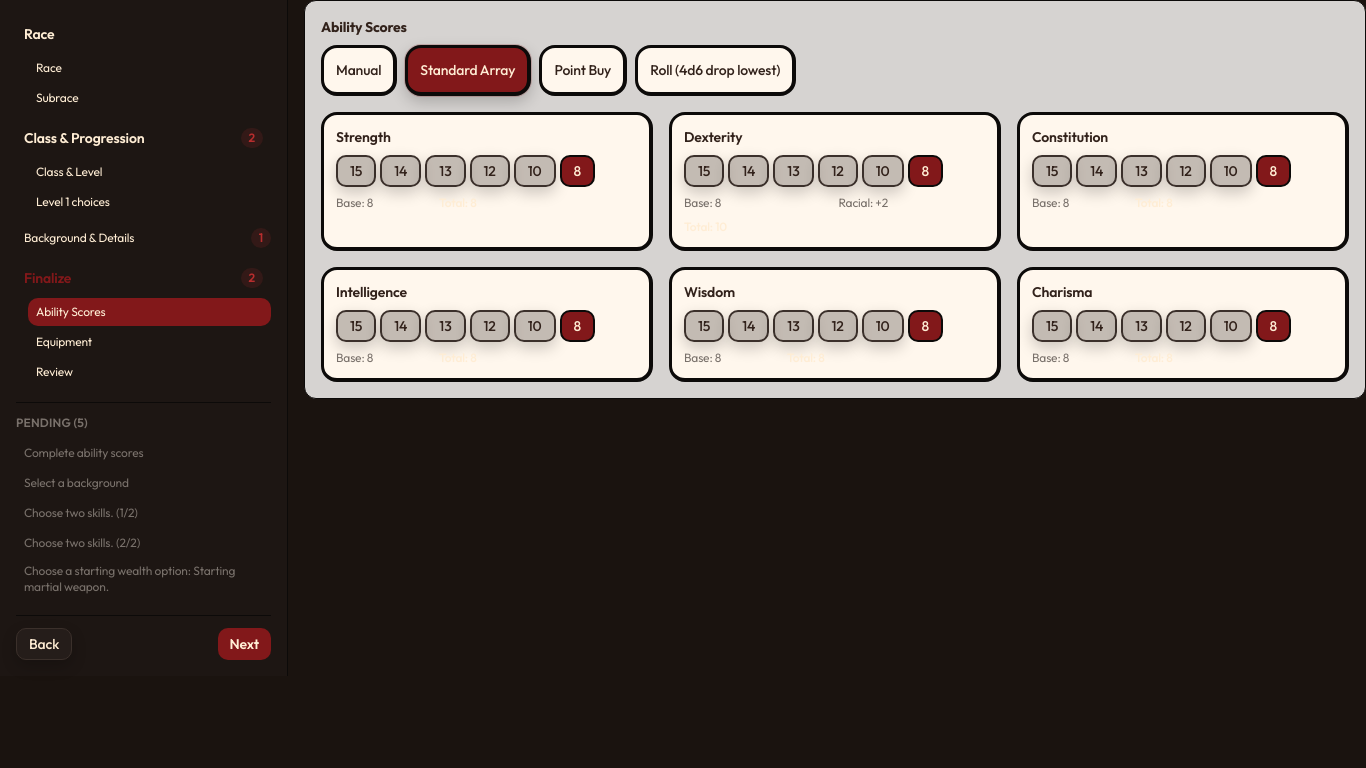
Test case: PlayerCharacterForm abilities step › switches generation method UI immediately without tab change
Click the button "Manual".
click(359, 70)  # box [321,45,397,96]
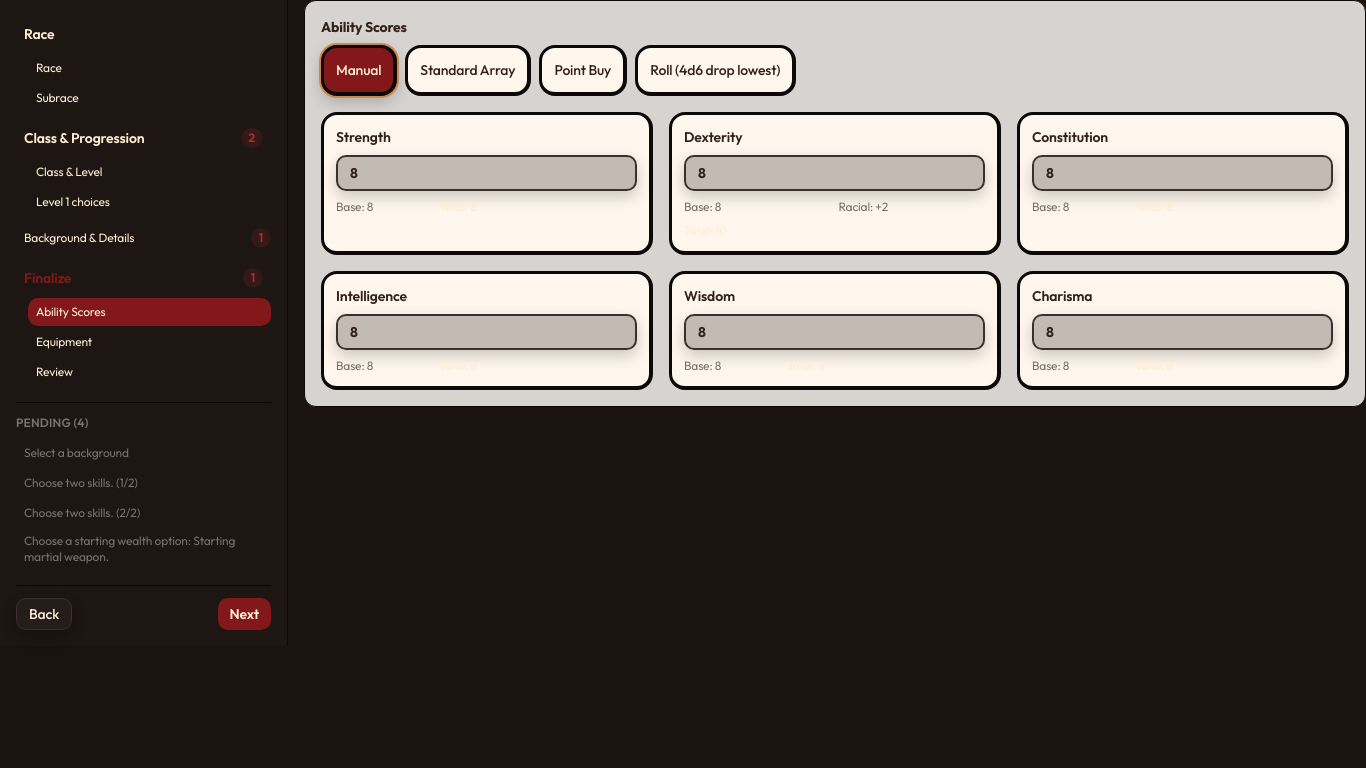
Expected: the number field below "Strength" is shown, [336,155,637,191]
